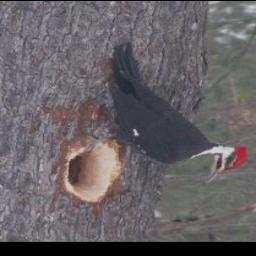Woodpecker: (76, 42, 252, 184)
